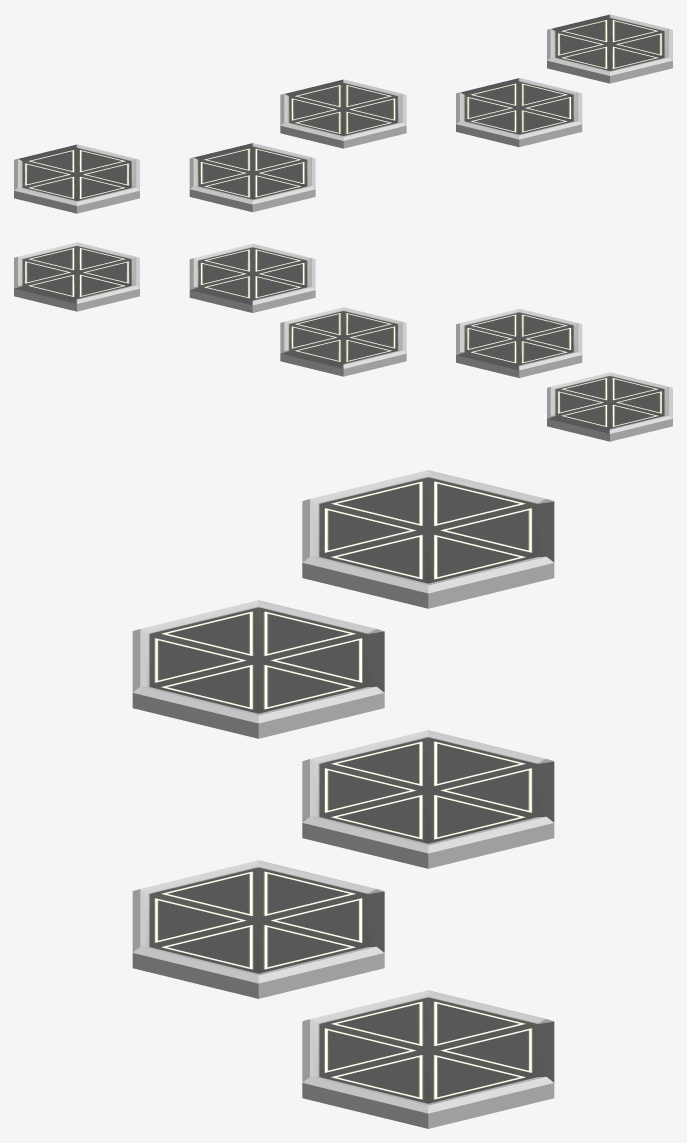
The model's file is Small_Landing_Pads.fbx.
The picture shows the model from 3 angles, top to bottom: view 1: azimuth 30°, elevation 25°; view 2: azimuth 150°, elevation 25°; view 3: azimuth 270°, elevation 25°; orthographic projection. The views are drawn at different scales.
Visible parts, largest first — view 1: Small_Landing_Pads; view 2: Small_Landing_Pads; view 3: Small_Landing_Pads.
Boxes of the visible parts, x1,y1,x2,y2 form: Small_Landing_Pads: (14, 14, 672, 213); Small_Landing_Pads: (14, 242, 672, 441); Small_Landing_Pads: (132, 470, 554, 1128).
Size of the model in its own units: 32645 by 464 by 9051.
